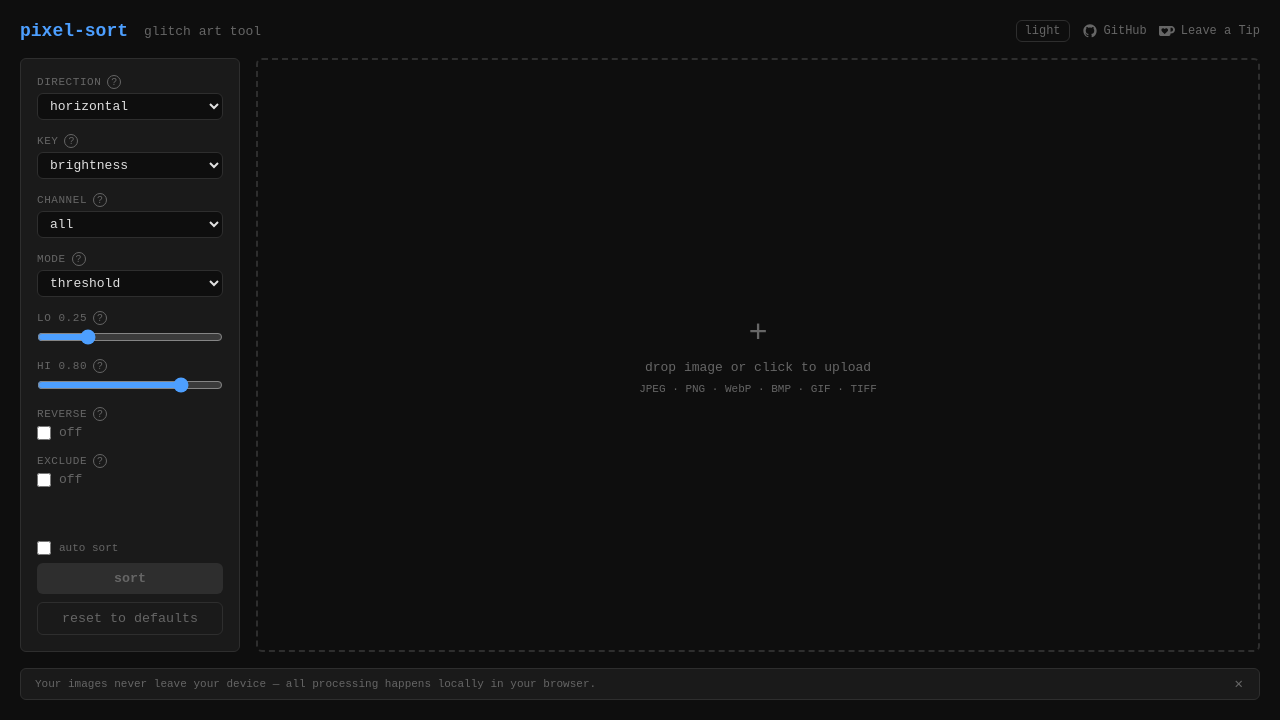
Test case: PixelSorter — mask controls › enabling mask shows rect/lasso mode buttons
This screenshot has width=1280, height=720.
What coordinates should you click on to do the following:
click the checkbox labelled "off" below "exclude"
I would click on:
 (44, 480)
Its box is [37,472,51,486].
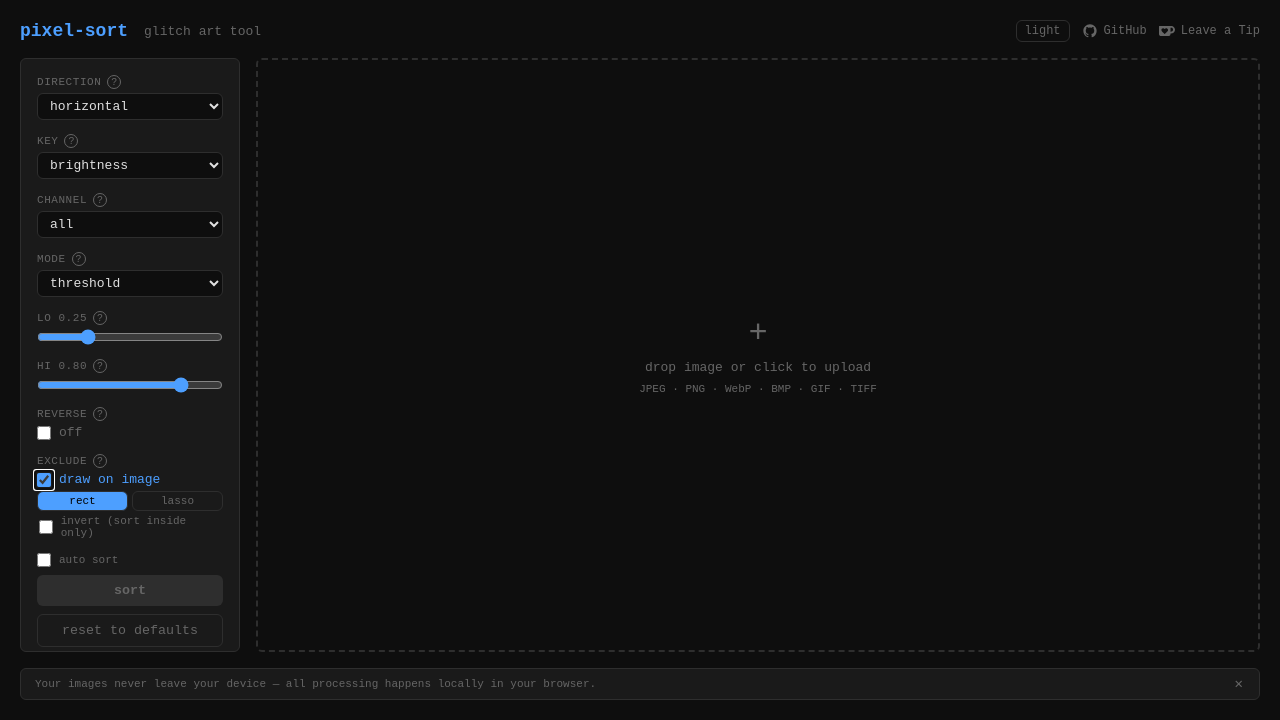
Check: the button "rect" is shown, box [37,491,128,511]
Check: the button "lasso" is shown, box [132,491,223,511]
